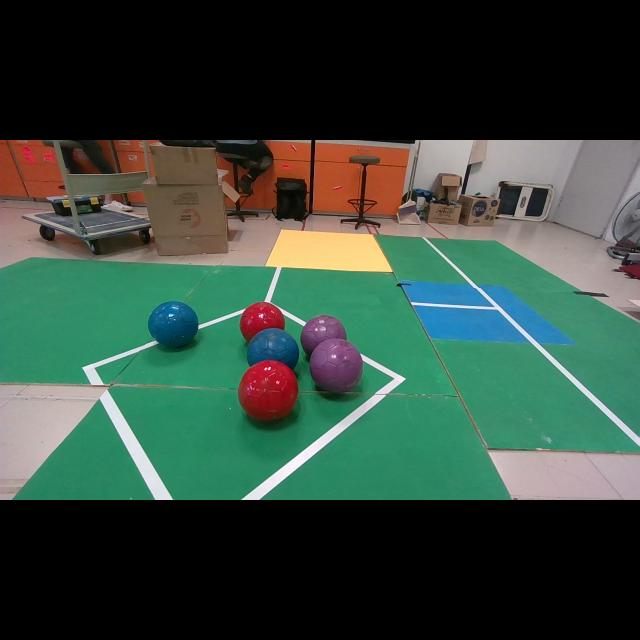B: (148, 301, 199, 348), (246, 328, 299, 369)
P: (311, 339, 362, 392), (300, 315, 346, 356)
R: (238, 360, 299, 421), (240, 302, 285, 342)
